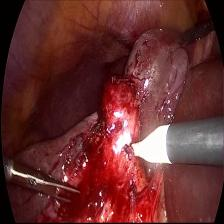Grasper: (9, 155, 84, 208)
Hook: (121, 114, 173, 172)
